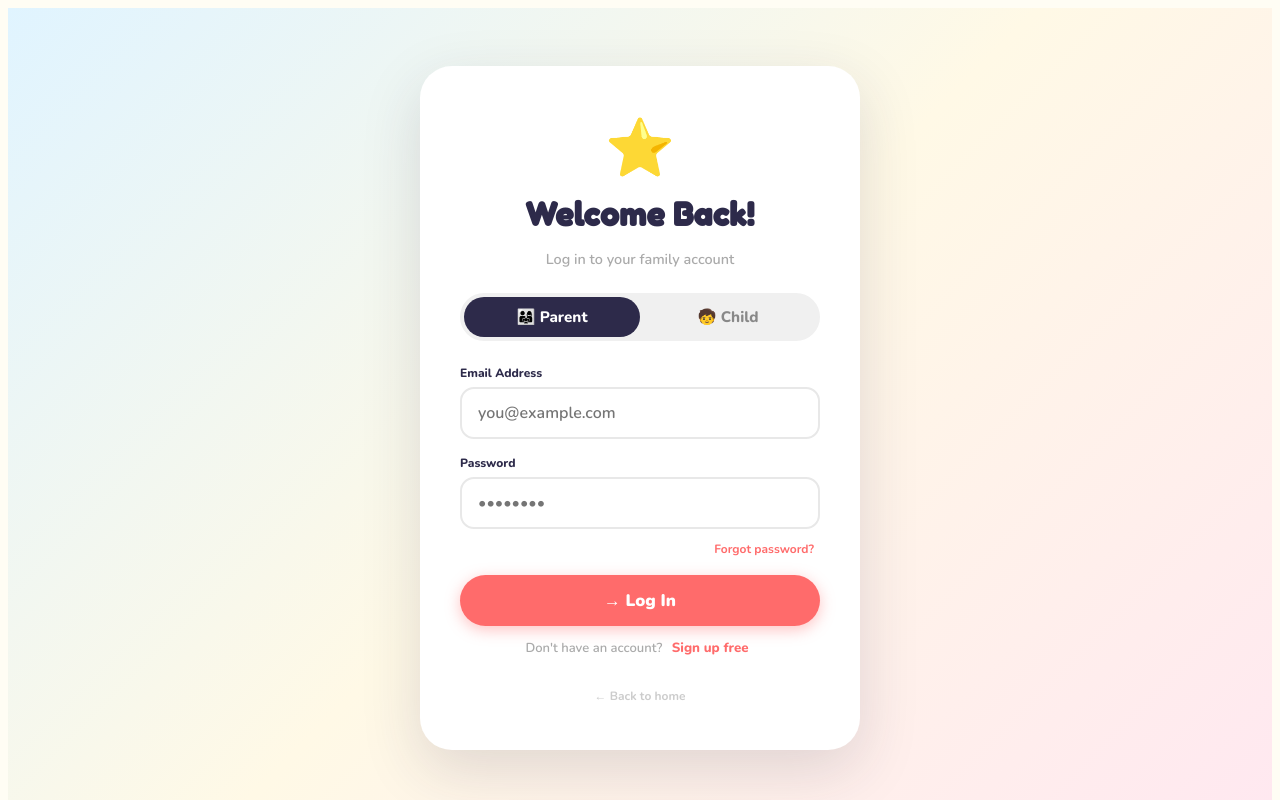
🧒 Auth Screen — Kid PIN Login › switching to Child shows PIN interface
Click the button "🧒 Child": [728, 317] box [640,297,816,337]
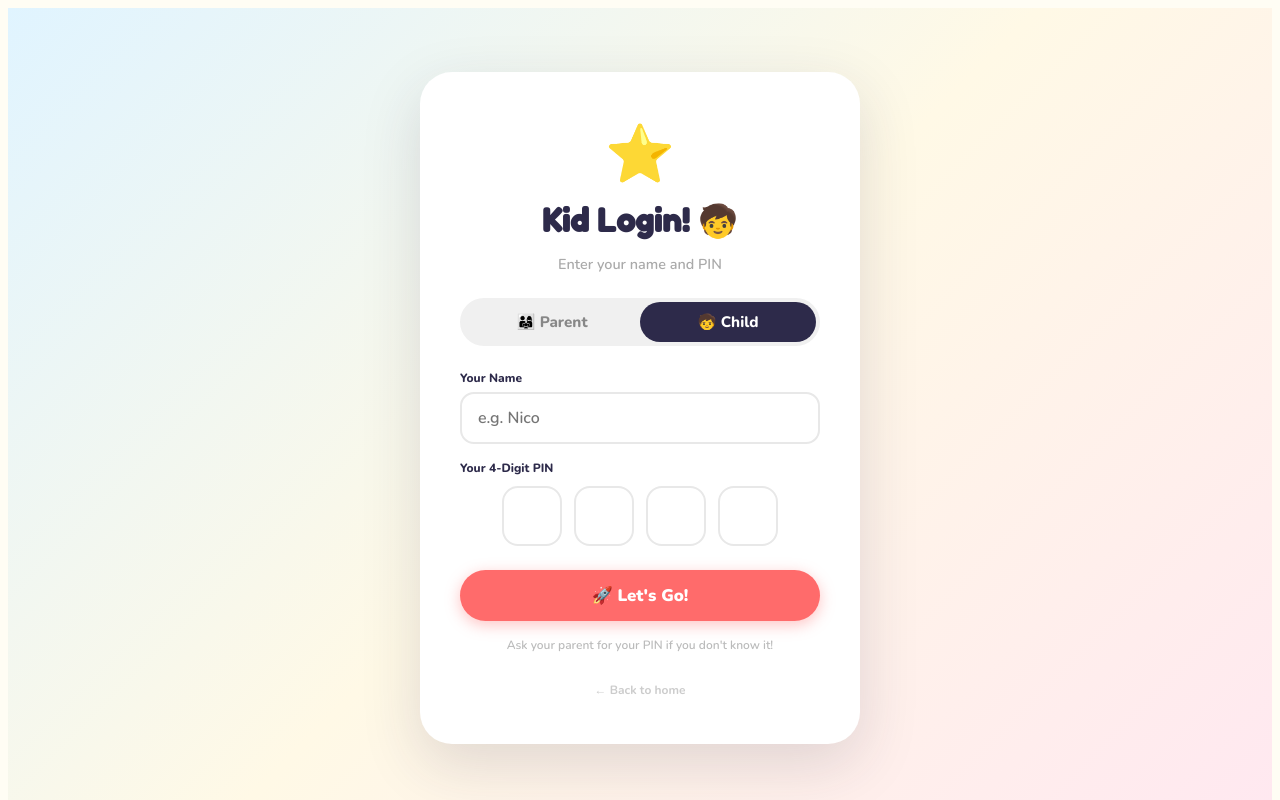
Check: the heading "Kid Login! 🧒" is shown, box [542,201,738,240]
